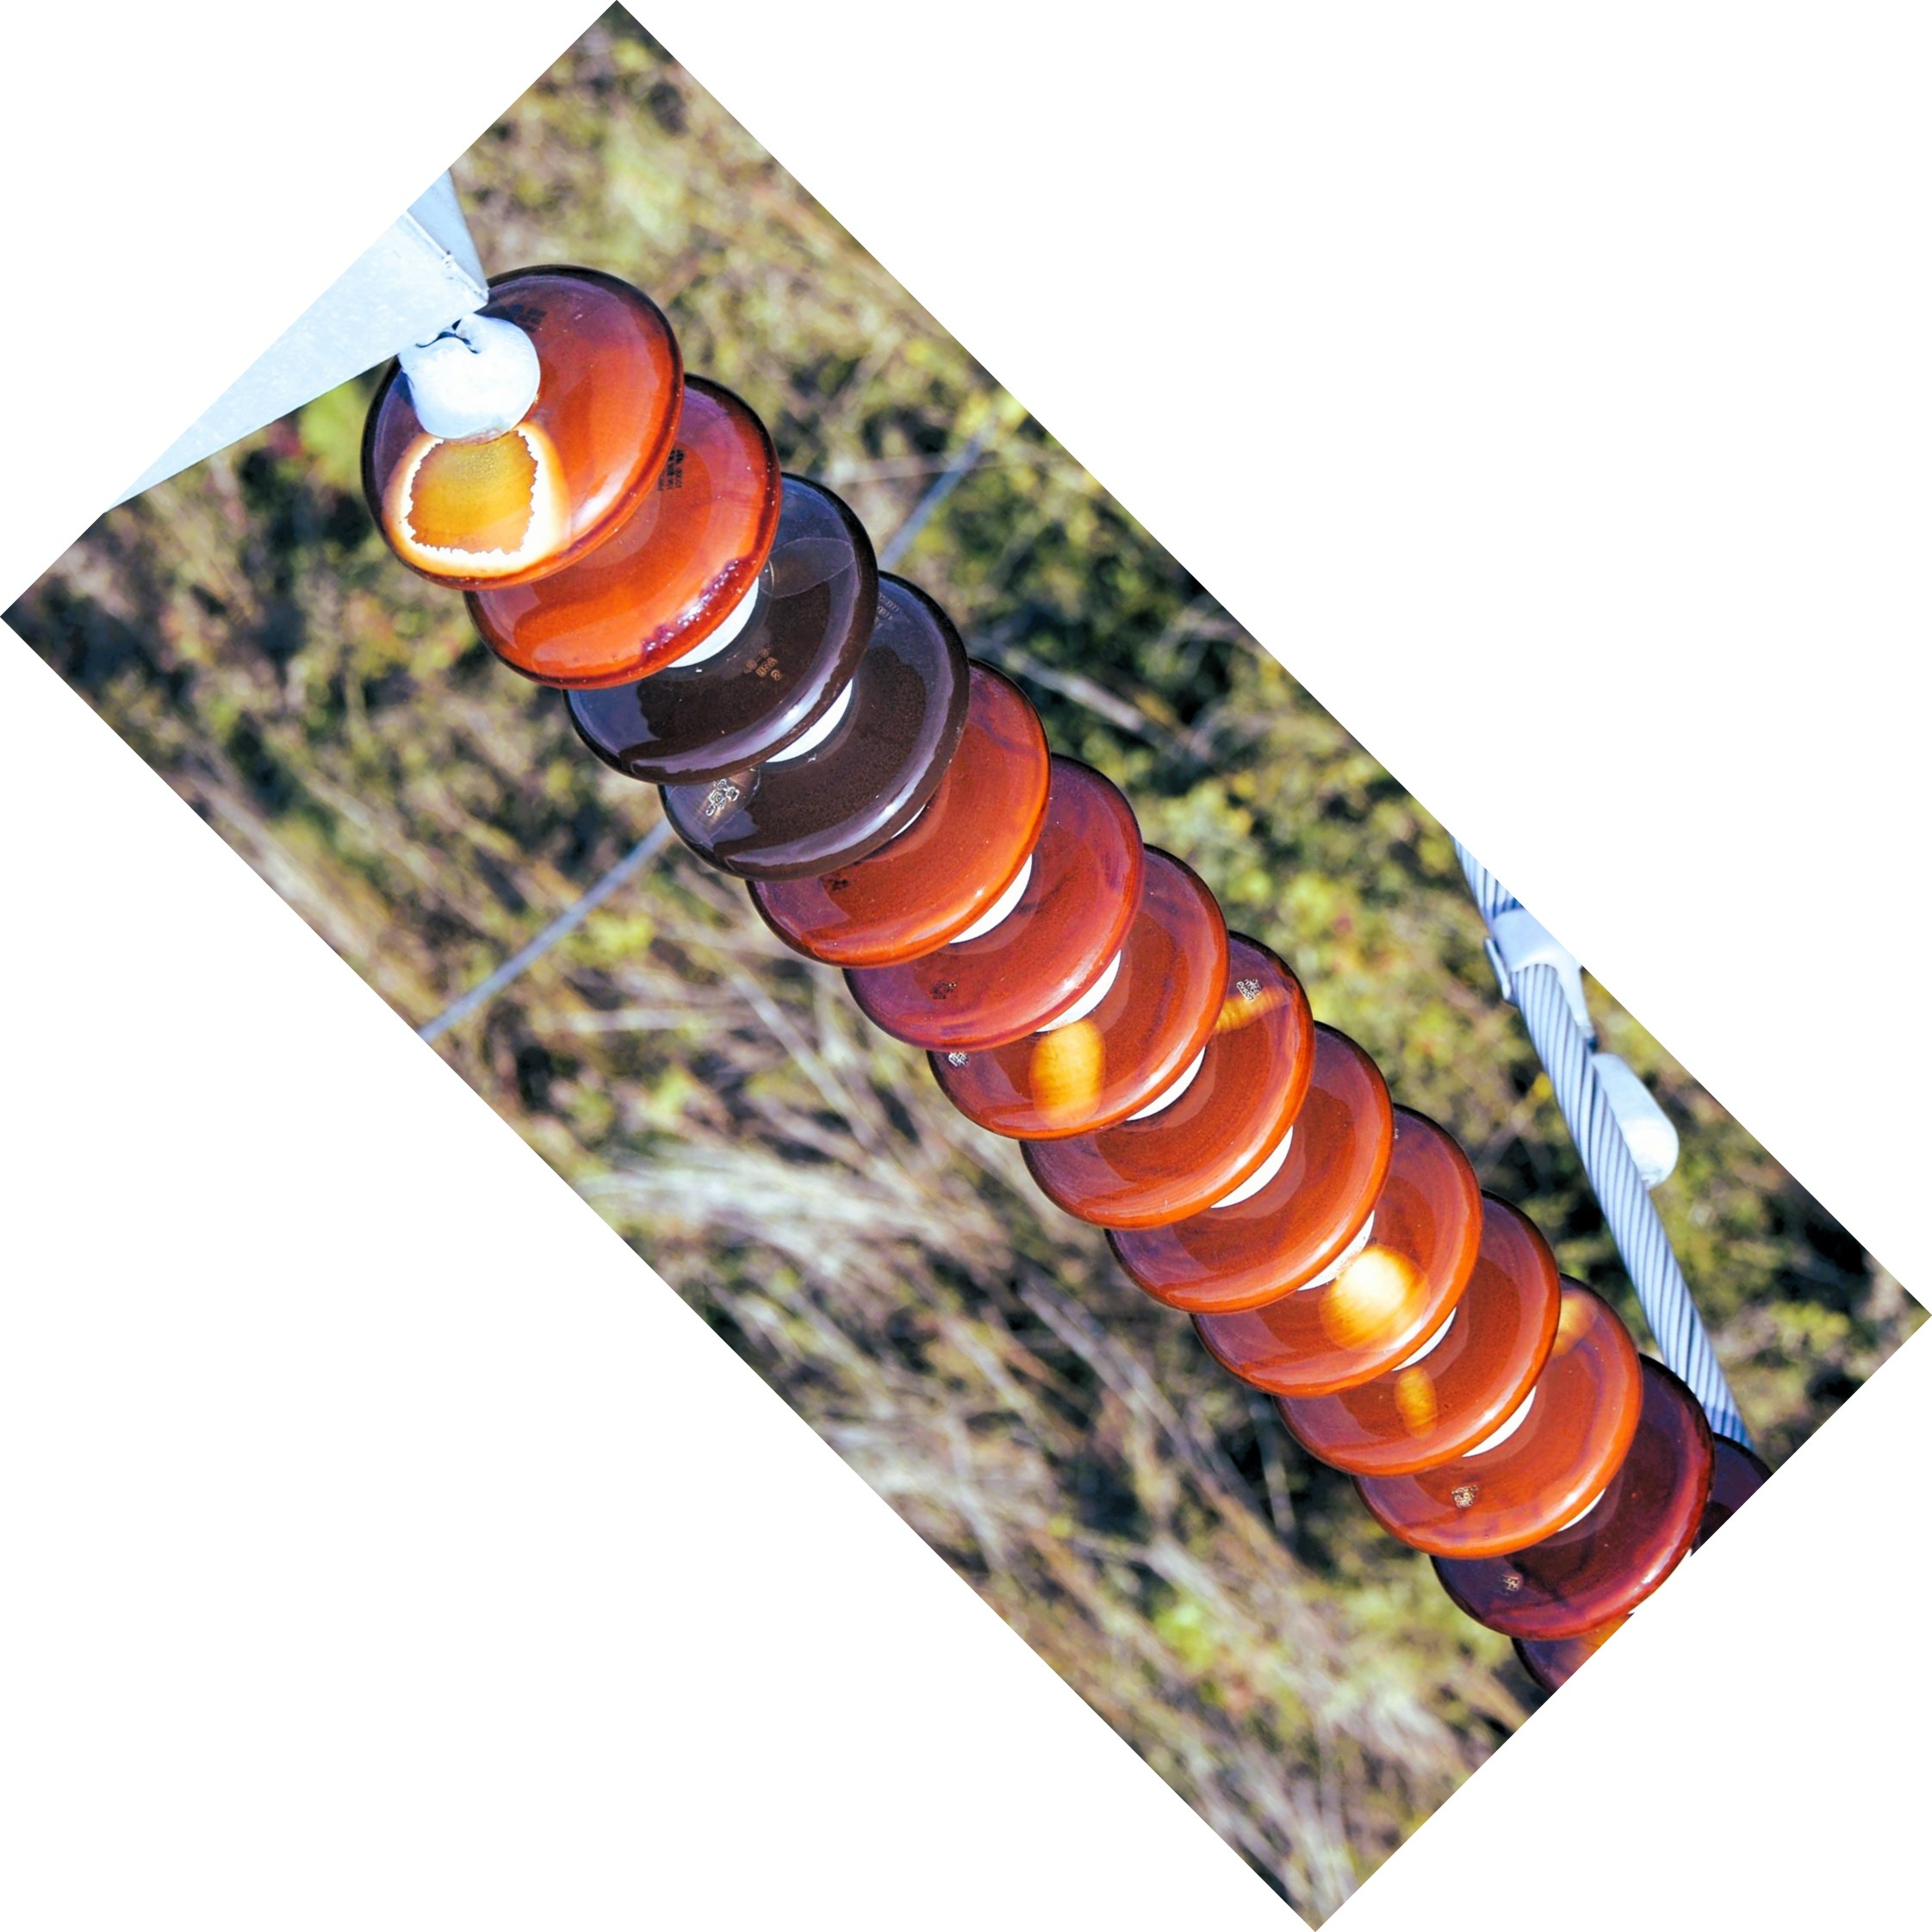Insulator flashover: (336, 262, 679, 614), (920, 837, 1242, 1152), (1214, 1109, 1502, 1424)
